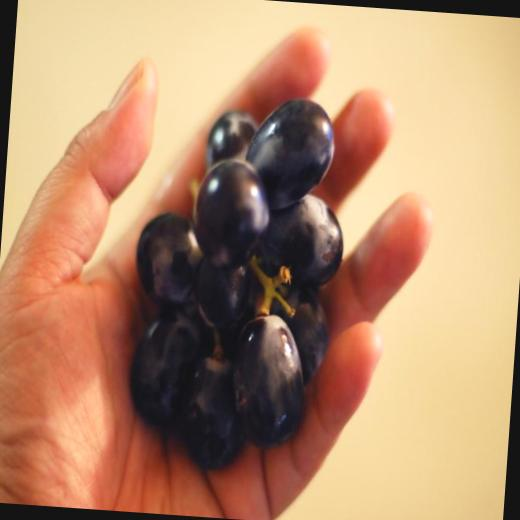Orange: (123, 83, 356, 479)
